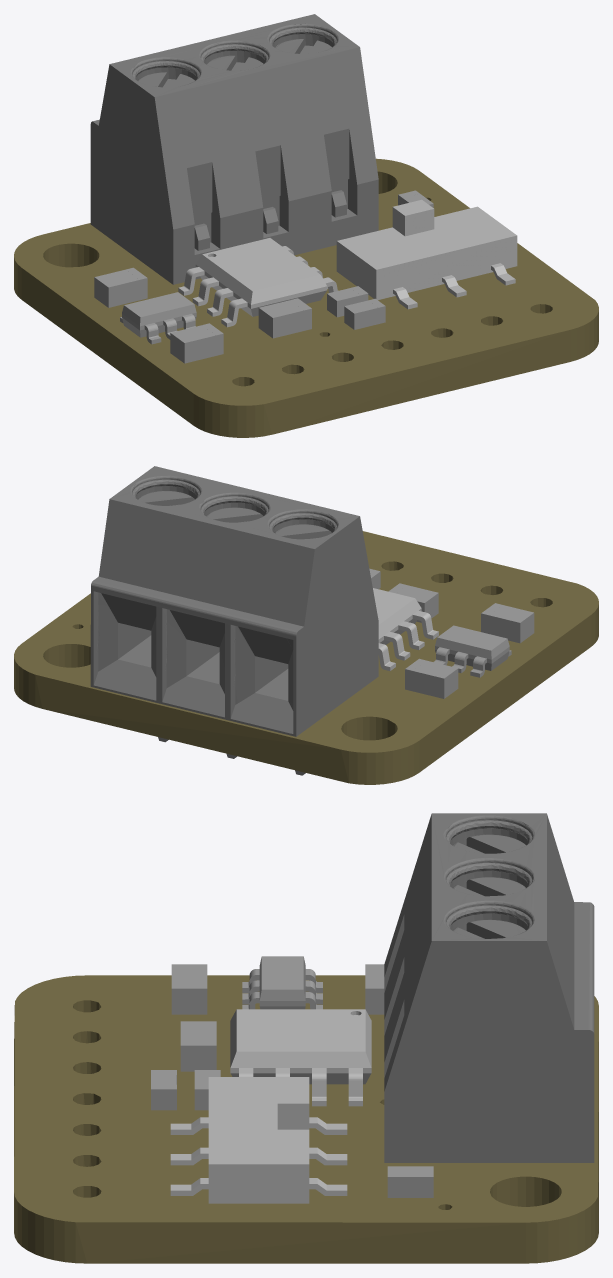
File: adafruit-5708-can-pal.glb
3 renders of one model, top to bottom at view 1: azimuth 30°, elevation 25°; view 2: azimuth 150°, elevation 25°; view 3: azimuth 270°, elevation 25°, orthographic. The views are drawn at different scales.
Parts seen in each view (by area): view 1: colour 1, colour 3, colour 2, colour 4; view 2: colour 3, colour 1, colour 4, colour 2; view 3: colour 1, colour 3, colour 2, colour 4.
Boxes of the visible parts, x1=… form: colour 1: x1=14, y1=158, x2=598, y2=437; colour 3: x1=90, y1=14, x2=378, y2=284; colour 2: x1=178, y1=199, x2=517, y2=327; colour 4: x1=94, y1=190, x2=433, y2=363; colour 3: x1=90, y1=466, x2=378, y2=775; colour 1: x1=14, y1=531, x2=598, y2=784; colour 4: x1=369, y1=568, x2=534, y2=698; colour 2: x1=373, y1=588, x2=438, y2=670; colour 1: x1=14, y1=975, x2=598, y2=1263; colour 3: x1=384, y1=813, x2=594, y2=1162; colour 2: x1=170, y1=1009, x2=371, y2=1203; colour 4: x1=151, y1=956, x2=433, y2=1197.
Bounding box in the file's own units: 0.0203 × 0.0121 × 0.0203.
